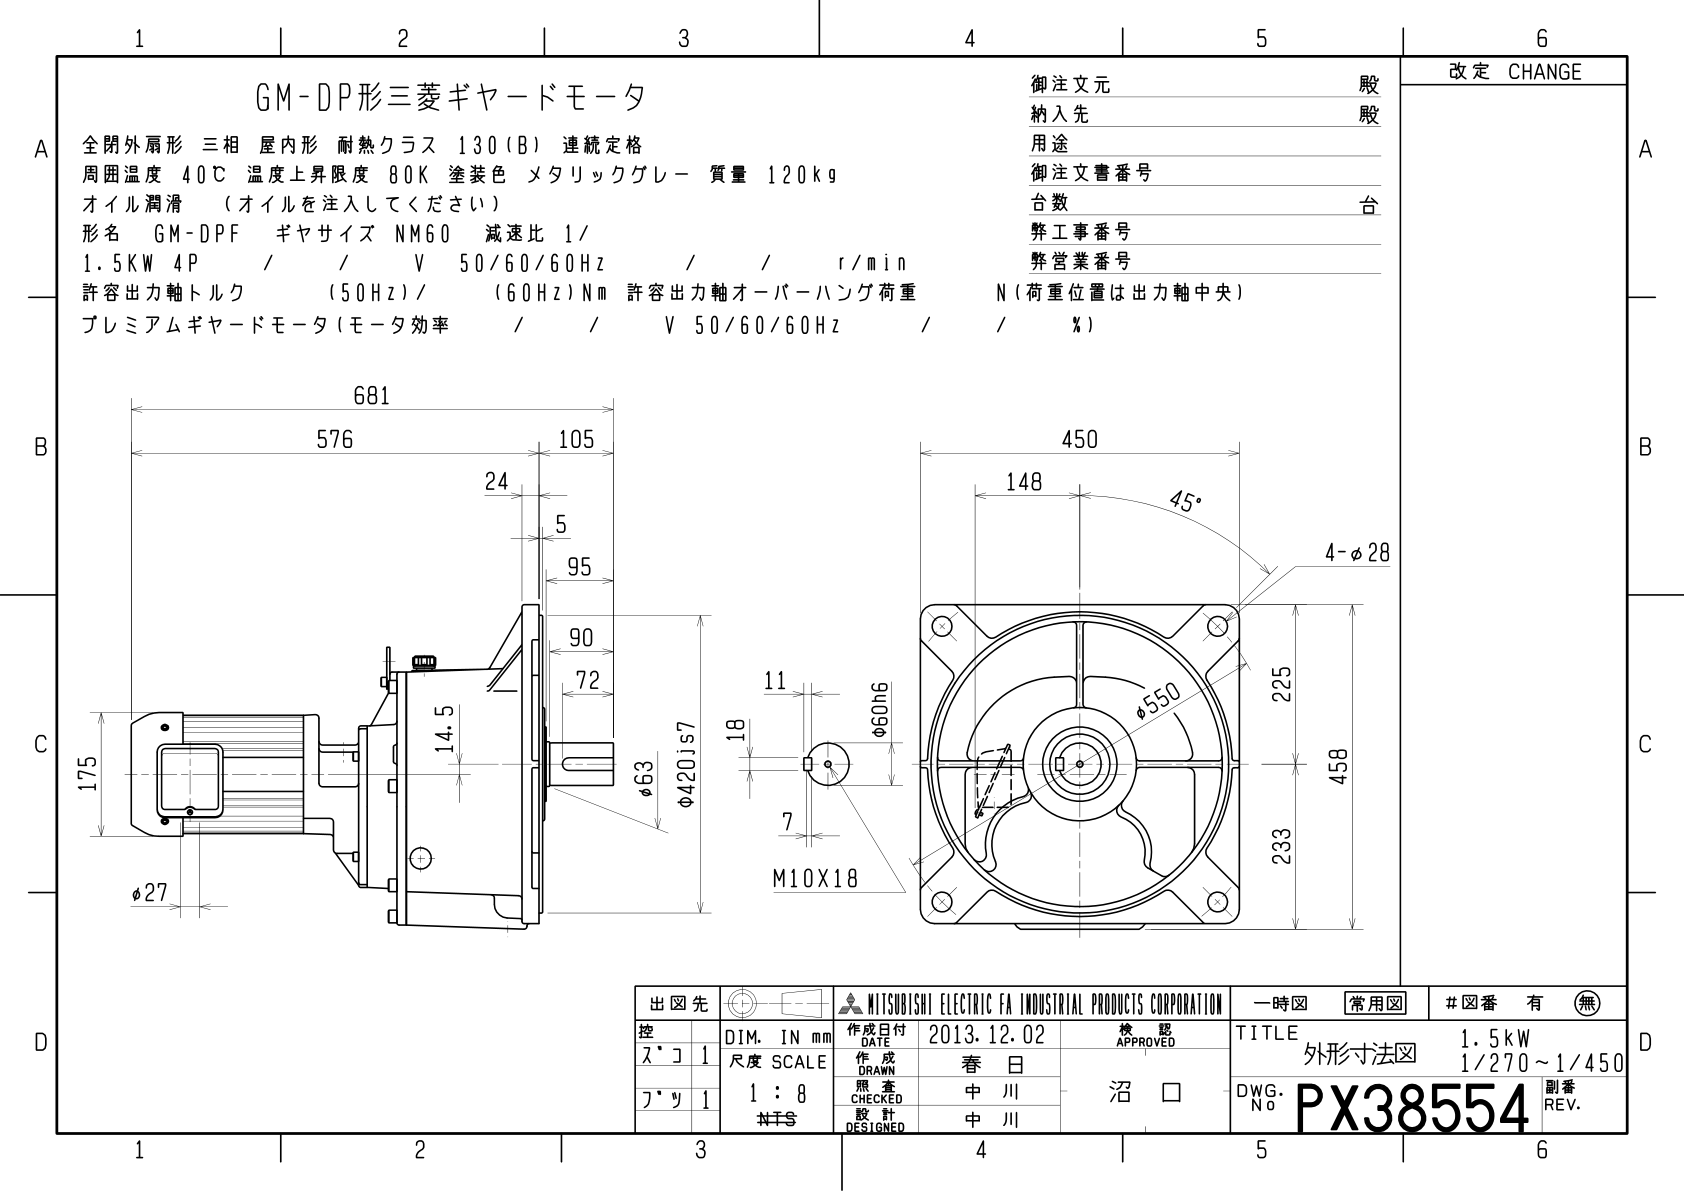GM_DP_屋内_三相_フランジ: (71, 357, 1397, 974)
